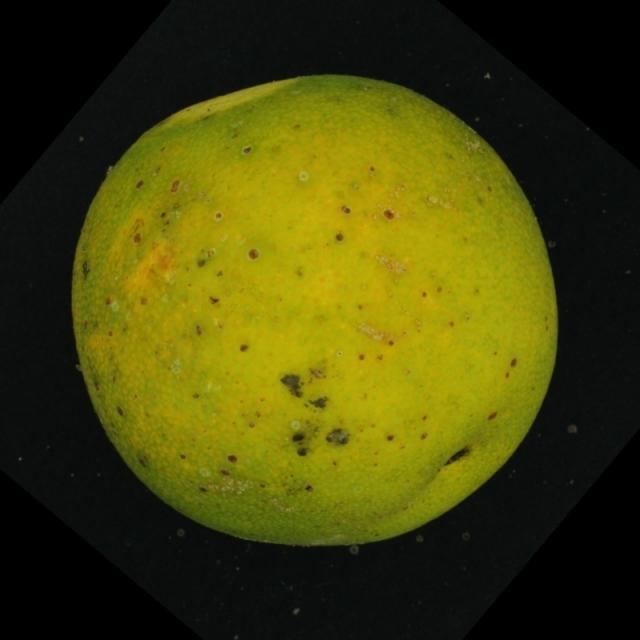grenning: (58, 66, 572, 563)
